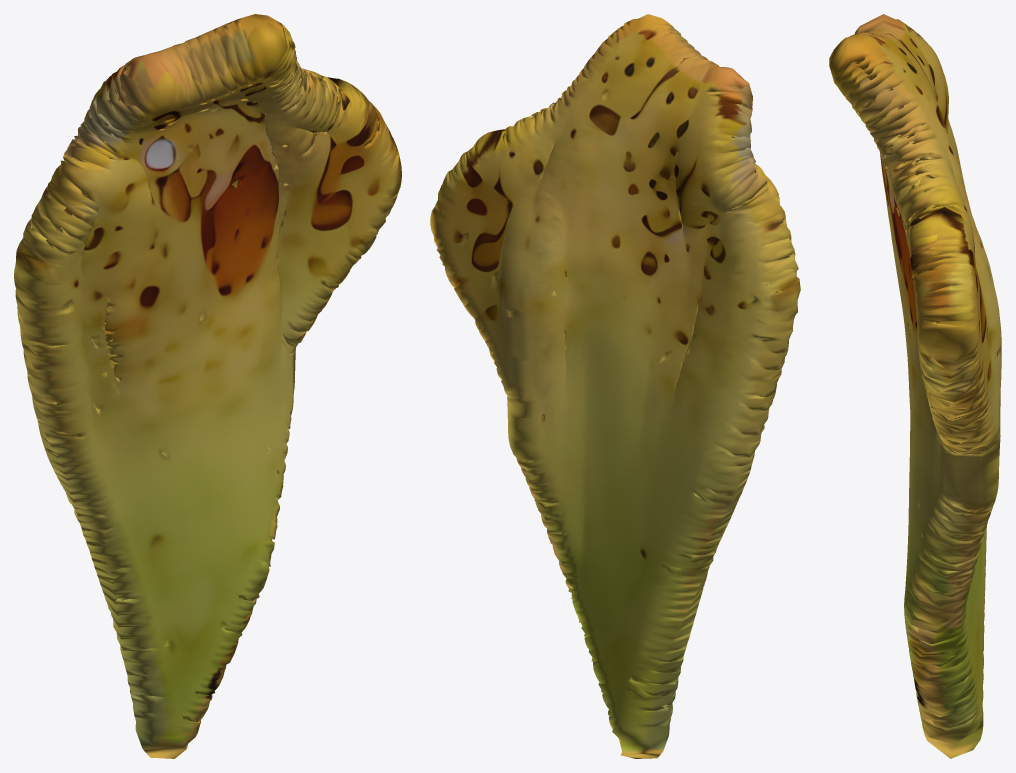
The model's file is star-pillow.glb.
The picture shows the model from 3 angles, left to right: view 1: azimuth 30°, elevation 25°; view 2: azimuth 150°, elevation 25°; view 3: azimuth 270°, elevation 25°; orthographic projection. The views are drawn at different scales.
Visible parts, largest first — view 1: textured; view 2: textured; view 3: textured.
Boxes of the visible parts, <box> form: textured: <box>14,14,401,758</box>; textured: <box>430,14,800,758</box>; textured: <box>829,14,1001,758</box>.
Size of the model in its own units: 0.6355 by 1.2 by 0.2559.
1 material, 1 textured.
